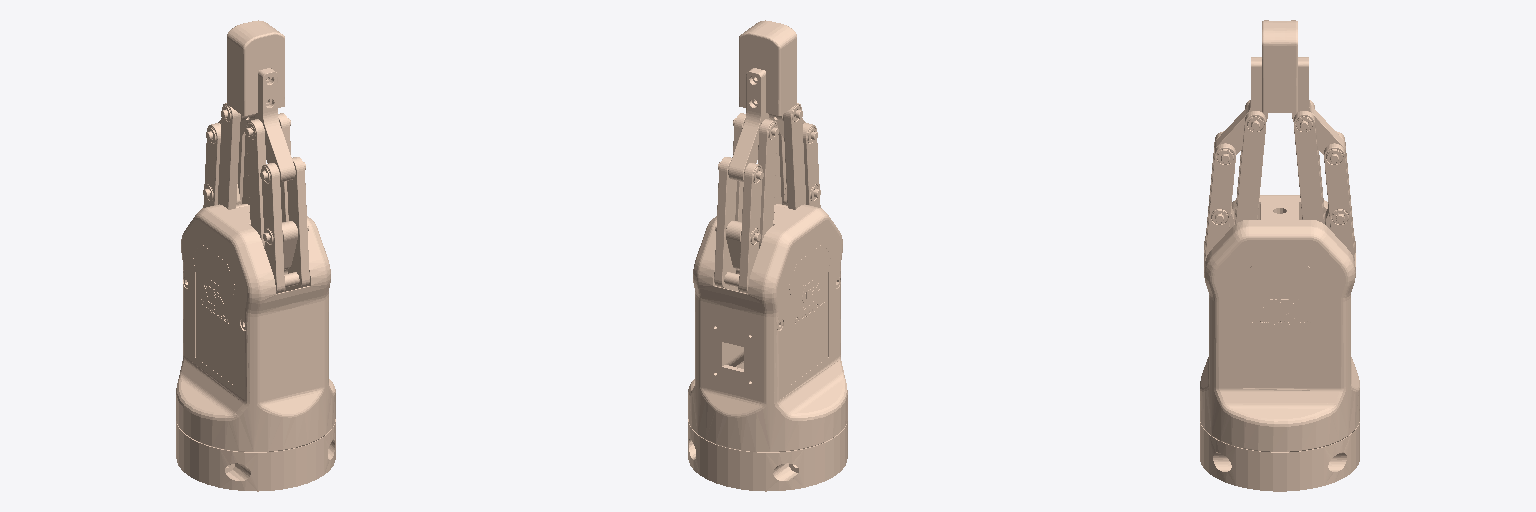
robot.urdf — crt_ctag2f90c_gripper_visualization:
<?xml version="1.0" encoding="utf-8"?>
<!-- This URDF was automatically created by SolidWorks to URDF Exporter! Originally created by
[author] ([email redacted]) 
     Commit Version: 1.6.0-4-g7f85cfe  Build Version: 1.6.7995.38578
     For more information, please see http://wiki.ros.org/sw_urdf_exporter -->
<robot
  name="crt_ctag2f90c_gripper_visualization">
  <link
    name="base_link">
    <inertial>
      <origin
        xyz="3.45207417426861E-05 -0.000141443719270944 0.0415526970475172"
        rpy="0 0 0" />
      <mass
        value="0.310447980489903" />
      <inertia
        ixx="0.000404388005636034"
        ixy="-6.8589621466727E-08"
        ixz="5.84928727366459E-08"
        iyy="0.000296494720930083"
        iyz="-1.79342738400452E-07"
        izz="0.000212447969282029" />
    </inertial>
    <visual>
      <origin
        xyz="0 0 0"
        rpy="0 0 0" />
      <geometry>
        <mesh
          filename="package://crt_ctag2f90c_gripper_visualization/meshes/base_link.STL" />
      </geometry>
      <material
        name="">
        <color
          rgba="0.976470588235294 0.866666666666667 0.784313725490196 1" />
      </material>
    </visual>
    <collision>
      <origin
        xyz="0 0 0"
        rpy="0 0 0" />
      <geometry>
        <mesh
          filename="package://crt_ctag2f90c_gripper_visualization/meshes/base_link.STL" />
      </geometry>
    </collision>
  </link>
  <link
    name="Left_1_Link">
    <inertial>
      <origin
        xyz="-1.28088127539536E-18 0.0252734640095115 -0.00214040614650292"
        rpy="0 0 0" />
      <mass
        value="0.0129014357535444" />
      <inertia
        ixx="3.35976482443235E-06"
        ixy="-3.3181849198807E-25"
        ixz="-3.35726667613063E-23"
        iyy="1.65185846940368E-07"
        iyz="2.63476012977044E-07"
        izz="3.25394125032869E-06" />
    </inertial>
    <visual>
      <origin
        xyz="0 0 0"
        rpy="0 0 0" />
      <geometry>
        <mesh
          filename="package://crt_ctag2f90c_gripper_visualization/meshes/Left_1_Link.STL" />
      </geometry>
      <material
        name="">
        <color
          rgba="0.976470588235294 0.866666666666667 0.784313725490196 1" />
      </material>
    </visual>
    <collision>
      <origin
        xyz="0 0 0"
        rpy="0 0 0" />
      <geometry>
        <mesh
          filename="package://crt_ctag2f90c_gripper_visualization/meshes/Left_1_Link.STL" />
      </geometry>
    </collision>
  </link>
  <joint
    name="Left_1_Joint"
    type="revolute">
    <origin
      xyz="0 -0.030141 0.090147"
      rpy="1.5708 0 0" />
    <parent
      link="base_link" />
    <child
      link="Left_1_Link" />
    <axis
      xyz="-1 0 0" />
    <limit
      lower="-1"
      upper="0"
      effort="2"
      velocity="1000" />
  </joint>
  <link
    name="Left_in_Link">
    <inertial>
      <origin
        xyz="-1.75682286192042E-11 -0.0108820145632286 -0.00405362317350415"
        rpy="0 0 0" />
      <mass
        value="0.0134557296415635" />
      <inertia
        ixx="1.43307384392376E-06"
        ixy="-1.06834632214133E-14"
        ixz="-4.88547951587875E-15"
        iyy="3.88838933230828E-07"
        iyz="-4.1814613493025E-07"
        izz="1.33747540965672E-06" />
    </inertial>
    <visual>
      <origin
        xyz="0 0 0"
        rpy="0 0 0" />
      <geometry>
        <mesh
          filename="package://crt_ctag2f90c_gripper_visualization/meshes/Left_in_Link.STL" />
      </geometry>
      <material
        name="">
        <color
          rgba="0.976470588235294 0.866666666666667 0.784313725490196 1" />
      </material>
    </visual>
    <collision>
      <origin
        xyz="0 0 0"
        rpy="0 0 0" />
      <geometry>
        <mesh
          filename="package://crt_ctag2f90c_gripper_visualization/meshes/Left_in_Link.STL" />
      </geometry>
    </collision>
  </link>
  <joint
    name="Left_in_Joint"
    type="revolute">
    <origin
      xyz="0 0.023914 -0.0020253"
      rpy="0 0 0" />
    <parent
      link="Left_1_Link" />
    <child
      link="Left_in_Link" />
    <axis
      xyz="-1 0 0" />
    <limit
      lower="-0.1"
      upper="0"
      effort="10"
      velocity="10" />
    <mimic
      joint="Left_1_Joint"
      multiplier="0.1"
      offset="0" />
  </joint>
  <link
    name="Left_up_Link">
    <inertial>
      <origin
        xyz="8.69802213948566E-11 0.0124078988097444 -0.0072525614743534"
        rpy="0 0 0" />
      <mass
        value="0.014692561982481" />
      <inertia
        ixx="2.35283034039115E-06"
        ixy="3.49796352982052E-14"
        ixz="-4.72158842036621E-15"
        iyy="5.8942945477579E-07"
        iyz="7.05860796345956E-07"
        izz="2.07228020361883E-06" />
    </inertial>
    <visual>
      <origin
        xyz="0 0 0"
        rpy="0 0 0" />
      <geometry>
        <mesh
          filename="package://crt_ctag2f90c_gripper_visualization/meshes/Left_up_Link.STL" />
      </geometry>
      <material
        name="">
        <color
          rgba="0.976470588235294 0.866666666666667 0.784313725490196 1" />
      </material>
    </visual>
    <collision>
      <origin
        xyz="0 0 0"
        rpy="0 0 0" />
      <geometry>
        <mesh
          filename="package://crt_ctag2f90c_gripper_visualization/meshes/Left_up_Link.STL" />
      </geometry>
    </collision>
  </link>
  <joint
    name="Left_up_Joint"
    type="revolute">
    <origin
      xyz="0 0.054804 -0.0046413"
      rpy="0 0 0" />
    <parent
      link="Left_1_Link" />
    <child
      link="Left_up_Link" />
    <axis
      xyz="-1 0 0" />
    <limit
      lower="0"
      upper="1"
      effort="10"
      velocity="10" />
    <mimic
      joint="Left_1_Joint"
      multiplier="-1"
      offset="0" />
  </joint>
  <link
    name="Left_Pad_Link">
    <inertial>
      <origin
        xyz="-3.83777509579761E-08 0.00303135276101582 0.0028336970357949"
        rpy="0 0 0" />
      <mass
        value="0.0183171479595721" />
      <inertia
        ixx="2.35683098270332E-06"
        ixy="-4.7353365844279E-12"
        ixz="-9.31433971475514E-13"
        iyy="9.08136064346118E-07"
        iyz="-1.55873132053129E-08"
        izz="3.18448591439082E-06" />
    </inertial>
    <visual>
      <origin
        xyz="0 0 0"
        rpy="0 0 0" />
      <geometry>
        <mesh
          filename="package://crt_ctag2f90c_gripper_visualization/meshes/Left_Pad_Link.STL" />
      </geometry>
      <material
        name="">
        <color
          rgba="0.976470588235294 0.866666666666667 0.784313725490196 1" />
      </material>
    </visual>
    <collision>
      <origin
        xyz="0 0 0"
        rpy="0 0 0" />
      <geometry>
        <mesh
          filename="package://crt_ctag2f90c_gripper_visualization/meshes/Left_Pad_Link.STL" />
      </geometry>
    </collision>
  </link>
  <joint
    name="Left_Pad_Joint"
    type="fixed">
    <origin
      xyz="0 0.04125 -0.02425"
      rpy="0 0 0" />
    <parent
      link="Left_up_Link" />
    <child
      link="Left_Pad_Link" />
    <axis
      xyz="0 0 0" />
  </joint>
  <link
    name="Left_2_Link">
    <inertial>
      <origin
        xyz="5.08224485200288E-06 0.0327050710040551 -0.00276963392800038"
        rpy="0 0 0" />
      <mass
        value="0.0188752657753052" />
      <inertia
        ixx="3.4145090175335E-06"
        ixy="-3.3317063785682E-22"
        ixz="-8.3582474326843E-22"
        iyy="2.86837057727488E-07"
        iyz="2.64809197911117E-07"
        izz="3.39111483394506E-06" />
    </inertial>
    <visual>
      <origin
        xyz="0 0 0"
        rpy="0 0 0" />
      <geometry>
        <mesh
          filename="package://crt_ctag2f90c_gripper_visualization/meshes/Left_2_Link.STL" />
      </geometry>
      <material
        name="">
        <color
          rgba="0.976470588235294 0.866666666666667 0.784313725490196 1" />
      </material>
    </visual>
    <collision>
      <origin
        xyz="0 0 0"
        rpy="0 0 0" />
      <geometry>
        <mesh
          filename="package://crt_ctag2f90c_gripper_visualization/meshes/Left_2_Link.STL" />
      </geometry>
    </collision>
  </link>
  <joint
    name="Left_2_Joint"
    type="revolute">
    <origin
      xyz="0 -0.016 0.107"
      rpy="1.5708 0 0" />
    <parent
      link="base_link" />
    <child
      link="Left_2_Link" />
    <axis
      xyz="1 0 0" />
    <limit
      lower="0"
      upper="1"
      effort="10"
      velocity="10" />
    <mimic
      joint="Left_1_Joint"
      multiplier="-1"
      offset="0" />
  </joint>
  <link
    name="Right_2_Link">
    <inertial>
      <origin
        xyz="1.94651792710713E-17 0.0327174794493866 -0.00277053098700989"
        rpy="0 0 0" />
      <mass
        value="0.0188856364479881" />
      <inertia
        ixx="3.41458781978465E-06"
        ixy="2.85152078238725E-22"
        ixz="9.8903086622122E-22"
        iyy="2.86883124998043E-07"
        iyz="2.64817198026894E-07"
        izz="3.39114800103702E-06" />
    </inertial>
    <visual>
      <origin
        xyz="0 0 0"
        rpy="0 0 0" />
      <geometry>
        <mesh
          filename="package://crt_ctag2f90c_gripper_visualization/meshes/Right_2_Link.STL" />
      </geometry>
      <material
        name="">
        <color
          rgba="0.976470588235294 0.866666666666667 0.784313725490196 1" />
      </material>
    </visual>
    <collision>
      <origin
        xyz="0 0 0"
        rpy="0 0 0" />
      <geometry>
        <mesh
          filename="package://crt_ctag2f90c_gripper_visualization/meshes/Right_2_Link.STL" />
      </geometry>
    </collision>
  </link>
  <joint
    name="Right_2_Joint"
    type="revolute">
    <origin
      xyz="0 0.016 0.107"
      rpy="1.5708 0 3.1416" />
    <parent
      link="base_link" />
    <child
      link="Right_2_Link" />
    <axis
      xyz="-1 0 0" />
    <limit
      lower="-1"
      upper="0"
      effort="10"
      velocity="10" />
    <mimic
      joint="Right_1_Joint"
      multiplier="1"
      offset="0" />
  </joint>
  <link
    name="Right_1_Link">
    <inertial>
      <origin
        xyz="-5.25233292439781E-19 0.0252734640095115 -0.00214040614650291"
        rpy="0 0 0" />
      <mass
        value="0.0129014357535444" />
      <inertia
        ixx="3.35976482443235E-06"
        ixy="-3.94978742494071E-23"
        ixz="-2.72484926002331E-23"
        iyy="1.65185846940368E-07"
        iyz="2.63476012977044E-07"
        izz="3.25394125032869E-06" />
    </inertial>
    <visual>
      <origin
        xyz="0 0 0"
        rpy="0 0 0" />
      <geometry>
        <mesh
          filename="package://crt_ctag2f90c_gripper_visualization/meshes/Right_1_Link.STL" />
      </geometry>
      <material
        name="">
        <color
          rgba="0.976470588235294 0.866666666666667 0.784313725490196 1" />
      </material>
    </visual>
    <collision>
      <origin
        xyz="0 0 0"
        rpy="0 0 0" />
      <geometry>
        <mesh
          filename="package://crt_ctag2f90c_gripper_visualization/meshes/Right_1_Link.STL" />
      </geometry>
    </collision>
  </link>
  <joint
    name="Right_1_Joint"
    type="revolute">
    <origin
      xyz="0 0.030141 0.090147"
      rpy="1.5708 0 3.1416" />
    <parent
      link="base_link" />
    <child
      link="Right_1_Link" />
    <axis
      xyz="-1 0 0" />
    <limit
      lower="-1"
      upper="0"
      effort="10"
      velocity="10" />
    <mimic
      joint="Left_1_Joint"
      multiplier="1"
      offset="0" />
  </joint>
  <link
    name="Right_in_Link">
    <inertial>
      <origin
        xyz="-1.7568261982498E-11 -0.0108820145632292 -0.00405362317350229"
        rpy="0 0 0" />
      <mass
        value="0.0134557296415635" />
      <inertia
        ixx="1.43307384392376E-06"
        ixy="-1.06834687803419E-14"
        ixz="-4.88548199727378E-15"
        iyy="3.88838933230828E-07"
        iyz="-4.1814613493025E-07"
        izz="1.33747540965672E-06" />
    </inertial>
    <visual>
      <origin
        xyz="0 0 0"
        rpy="0 0 0" />
      <geometry>
        <mesh
          filename="package://crt_ctag2f90c_gripper_visualization/meshes/Right_in_Link.STL" />
      </geometry>
      <material
        name="">
        <color
          rgba="0.976470588235294 0.866666666666667 0.784313725490196 1" />
      </material>
    </visual>
    <collision>
      <origin
        xyz="0 0 0"
        rpy="0 0 0" />
      <geometry>
        <mesh
          filename="package://crt_ctag2f90c_gripper_visualization/meshes/Right_in_Link.STL" />
      </geometry>
    </collision>
  </link>
  <joint
    name="Right_in_Joint"
    type="revolute">
    <origin
      xyz="0 0.023914 -0.0020253"
      rpy="0 0 0" />
    <parent
      link="Right_1_Link" />
    <child
      link="Right_in_Link" />
    <axis
      xyz="-1 0 0" />
    <limit
      lower="-1"
      upper="0"
      effort="10"
      velocity="10" />
    <mimic
      joint="Left_in_Joint"
      multiplier="1"
      offset="0" />
  </joint>
  <link
    name="Right_up_Link">
    <inertial>
      <origin
        xyz="8.69814518862609E-11 0.0124078988097266 -0.00725256147435587"
        rpy="0 0 0" />
      <mass
        value="0.014692561982481" />
      <inertia
        ixx="2.35283034039115E-06"
        ixy="3.49796366331572E-14"
        ixz="-4.72158801523363E-15"
        iyy="5.89429454773258E-07"
        iyz="7.05860796343296E-07"
        izz="2.07228020362137E-06" />
    </inertial>
    <visual>
      <origin
        xyz="0 0 0"
        rpy="0 0 0" />
      <geometry>
        <mesh
          filename="package://crt_ctag2f90c_gripper_visualization/meshes/Right_up_Link.STL" />
      </geometry>
      <material
        name="">
        <color
          rgba="0.976470588235294 0.866666666666667 0.784313725490196 1" />
      </material>
    </visual>
    <collision>
      <origin
        xyz="0 0 0"
        rpy="0 0 0" />
      <geometry>
        <mesh
          filename="package://crt_ctag2f90c_gripper_visualization/meshes/Right_up_Link.STL" />
      </geometry>
    </collision>
  </link>
  <joint
    name="Right_up_Joint"
    type="revolute">
    <origin
      xyz="0 0.054804 -0.0046413"
      rpy="0 0 0" />
    <parent
      link="Right_1_Link" />
    <child
      link="Right_up_Link" />
    <axis
      xyz="1 0 0" />
    <limit
      lower="-1"
      upper="0"
      effort="10"
      velocity="10" />
    <mimic
      joint="Right_1_Joint"
      multiplier="1"
      offset="0" />
  </joint>
  <link
    name="Right_Pad_Link">
    <inertial>
      <origin
        xyz="-3.83777500494227E-08 0.0030313527610159 0.00283369703564792"
        rpy="0 0 0" />
      <mass
        value="0.0366342959191441" />
      <inertia
        ixx="4.71366196540664E-06"
        ixy="-9.47067316877366E-12"
        ixz="-1.8628679404863E-12"
        iyy="1.81627212869223E-06"
        iyz="-3.11746264105278E-08"
        izz="6.36897182878164E-06" />
    </inertial>
    <visual>
      <origin
        xyz="0 0 0"
        rpy="0 0 0" />
      <geometry>
        <mesh
          filename="package://crt_ctag2f90c_gripper_visualization/meshes/Right_Pad_Link.STL" />
      </geometry>
      <material
        name="">
        <color
          rgba="0.976470588235294 0.866666666666667 0.784313725490196 1" />
      </material>
    </visual>
    <collision>
      <origin
        xyz="0 0 0"
        rpy="0 0 0" />
      <geometry>
        <mesh
          filename="package://crt_ctag2f90c_gripper_visualization/meshes/Right_Pad_Link.STL" />
      </geometry>
    </collision>
  </link>
  <joint
    name="Right_Pad_Joint"
    type="fixed">
    <origin
      xyz="0 0.04125 -0.02425"
      rpy="0 0 0" />
    <parent
      link="Right_up_Link" />
    <child
      link="Right_Pad_Link" />
    <axis
      xyz="0 0 0" />
  </joint>
</robot>

--- Render facts (derived) ---
Views: 3 orthographic renders of the robot side by side, from view 1: azimuth 30°, elevation 25°; view 2: azimuth 150°, elevation 25°; view 3: azimuth 270°, elevation 25°.
Model crt_ctag2f90c_gripper_visualization with 11 links and 10 joints (8 revolute, 2 fixed), rooted at base_link, posed every joint at zero.
Links seen in each view (by area): view 1: base_link, Left_1_Link, Left_Pad_Link, Left_up_Link, Left_2_Link, Right_2_Link, Right_1_Link, Right_Pad_Link, Left_in_Link; view 2: base_link, Right_1_Link, Right_Pad_Link, Right_up_Link, Right_2_Link, Left_2_Link, Left_1_Link, Left_Pad_Link, Right_in_Link; view 3: base_link, Left_2_Link, Right_2_Link, Left_1_Link, Right_1_Link, Left_Pad_Link, Right_Pad_Link, Right_up_Link, Left_up_Link.
Link boxes in pixels (left/top/right/bottom): base_link: left=176, top=204, right=335, bottom=491; Left_1_Link: left=261, top=157, right=309, bottom=293; Left_Pad_Link: left=235, top=27, right=284, bottom=115; Left_up_Link: left=255, top=68, right=305, bottom=182; Left_2_Link: left=245, top=113, right=290, bottom=248; Right_2_Link: left=218, top=103, right=254, bottom=209; Right_1_Link: left=203, top=123, right=245, bottom=207; Right_Pad_Link: left=227, top=20, right=274, bottom=109; Left_in_Link: left=263, top=221, right=308, bottom=291; base_link: left=688, top=204, right=847, bottom=491; Right_1_Link: left=714, top=157, right=762, bottom=293; Right_Pad_Link: left=739, top=27, right=788, bottom=115; Right_up_Link: left=718, top=68, right=768, bottom=182; Right_2_Link: left=733, top=113, right=778, bottom=248; Left_2_Link: left=769, top=103, right=805, bottom=209; Left_1_Link: left=778, top=123, right=820, bottom=207; Left_Pad_Link: left=749, top=20, right=796, bottom=109; Right_in_Link: left=715, top=220, right=760, bottom=291; base_link: left=1200, top=195, right=1359, bottom=491; Left_2_Link: left=1235, top=100, right=1265, bottom=223; Right_2_Link: left=1294, top=100, right=1324, bottom=223; Left_1_Link: left=1205, top=131, right=1235, bottom=260; Right_1_Link: left=1324, top=131, right=1354, bottom=260; Left_Pad_Link: left=1262, top=20, right=1279, bottom=112; Right_Pad_Link: left=1280, top=20, right=1297, bottom=112; Right_up_Link: left=1292, top=57, right=1344, bottom=164; Left_up_Link: left=1215, top=57, right=1267, bottom=164.
Size in the robot's own frame: 0.0748 by 0.075 by 0.2225 metres.
11 mesh visuals loaded from 11 distinct referenced files (11 binary STL).
